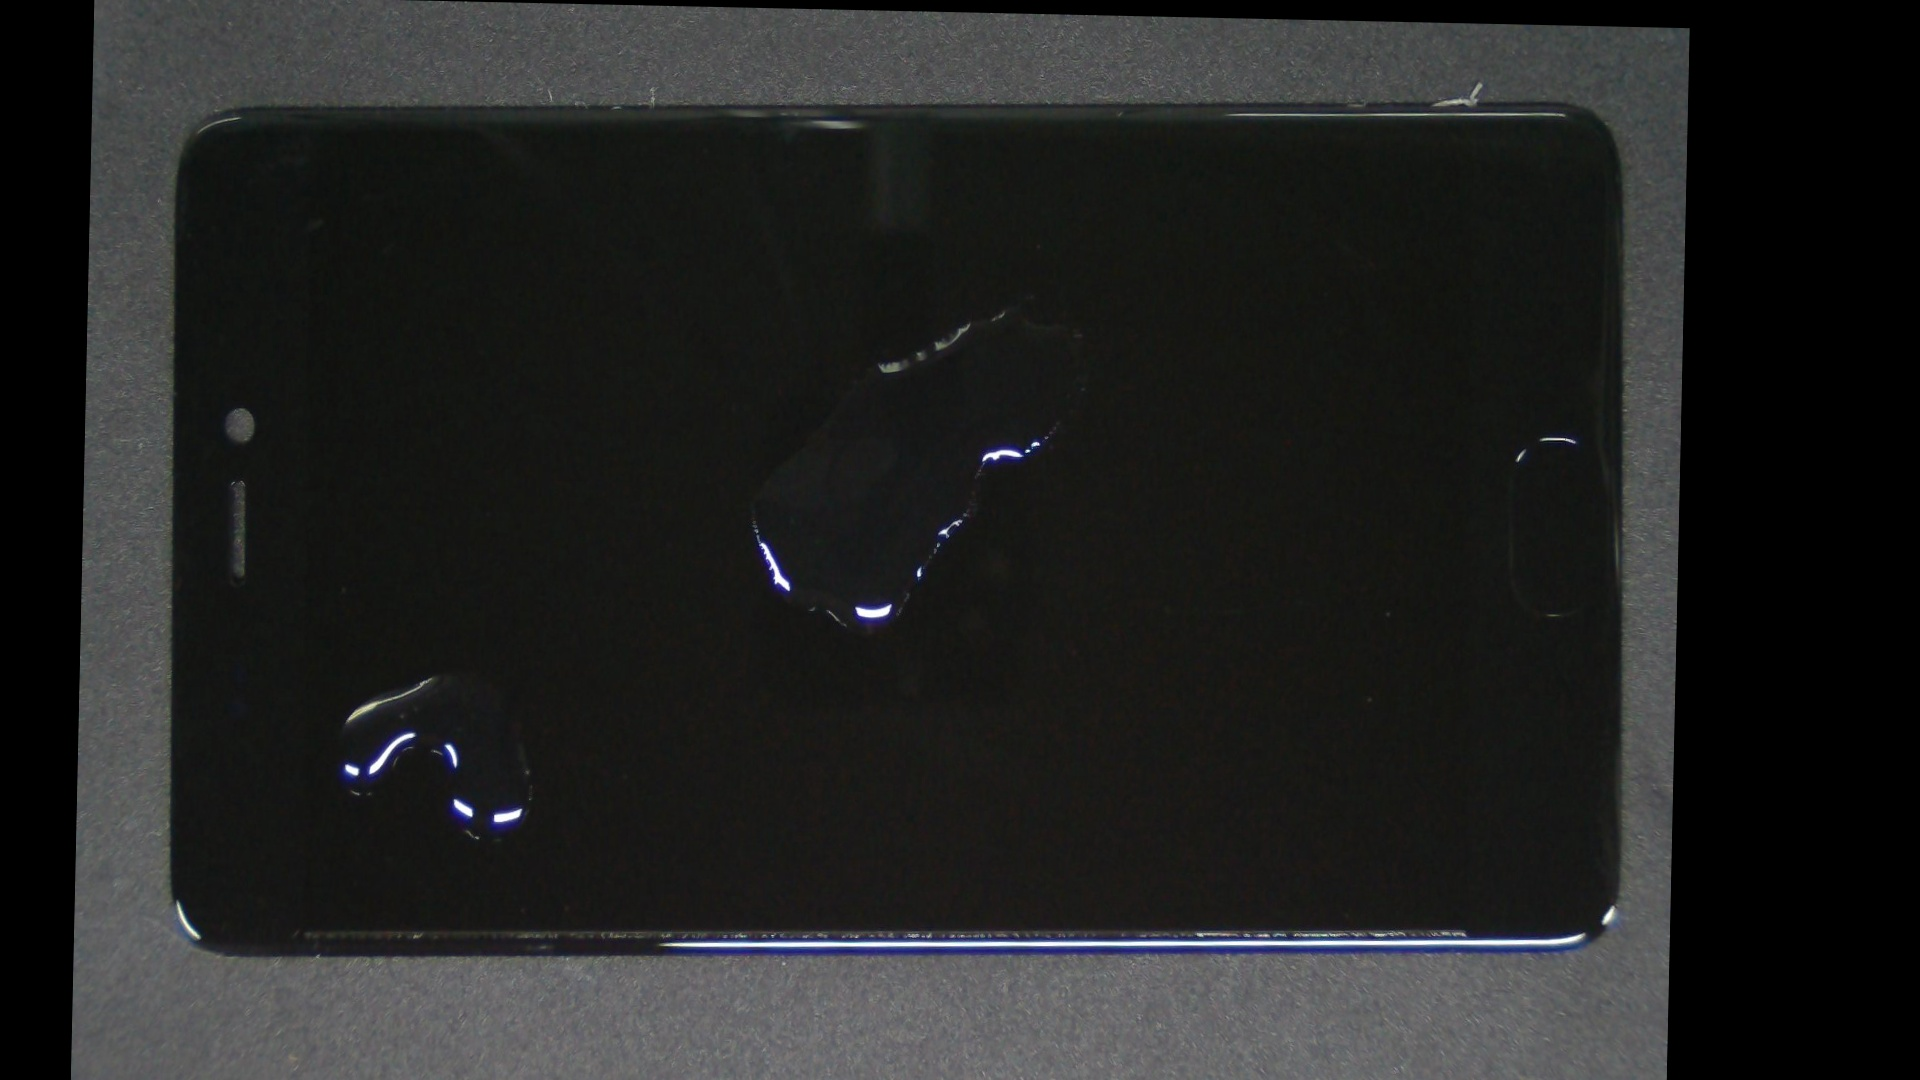oil: (553, 142, 1487, 448), (264, 332, 659, 1010)
